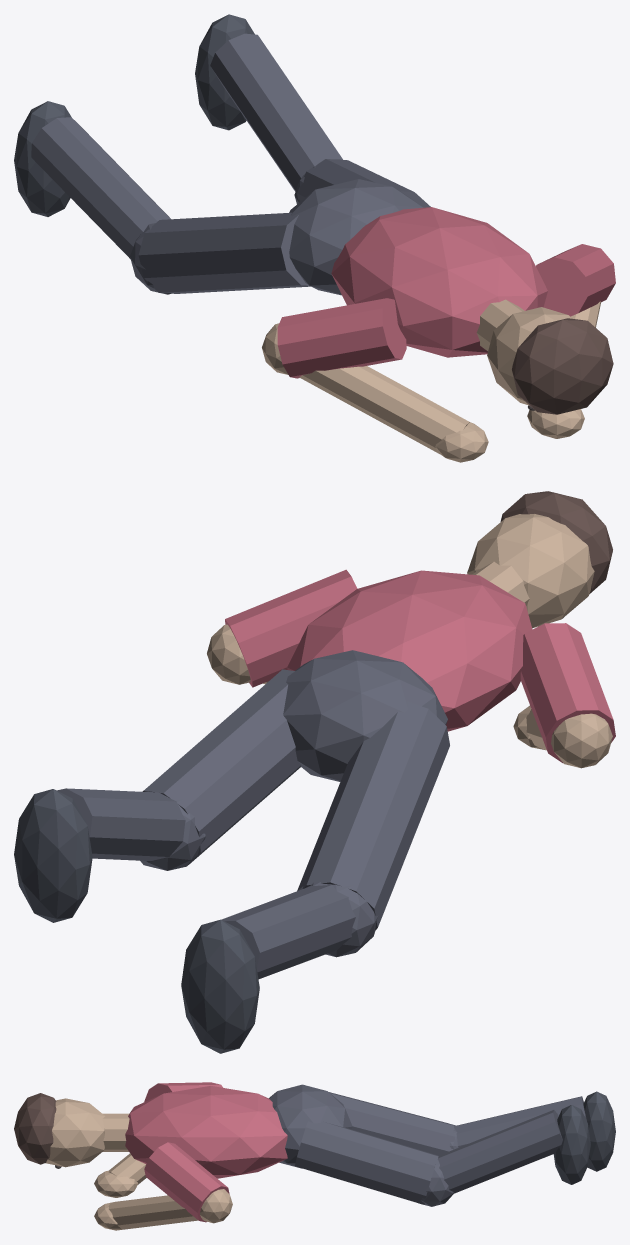
The picture shows the model from 3 angles, top to bottom: view 1: azimuth 30°, elevation 25°; view 2: azimuth 150°, elevation 25°; view 3: azimuth 270°, elevation 25°; orthographic projection. The views are drawn at different scales.
Parts seen in each view (by area): view 1: world; view 2: world; view 3: world.
Boxes of the visible parts, box(x1,y1,x2,y2) form: world: box(14, 14, 615, 462); world: box(14, 491, 615, 1053); world: box(14, 1082, 615, 1230).
Size of the model in its own units: 0.93 by 0.4638 by 2.04.
